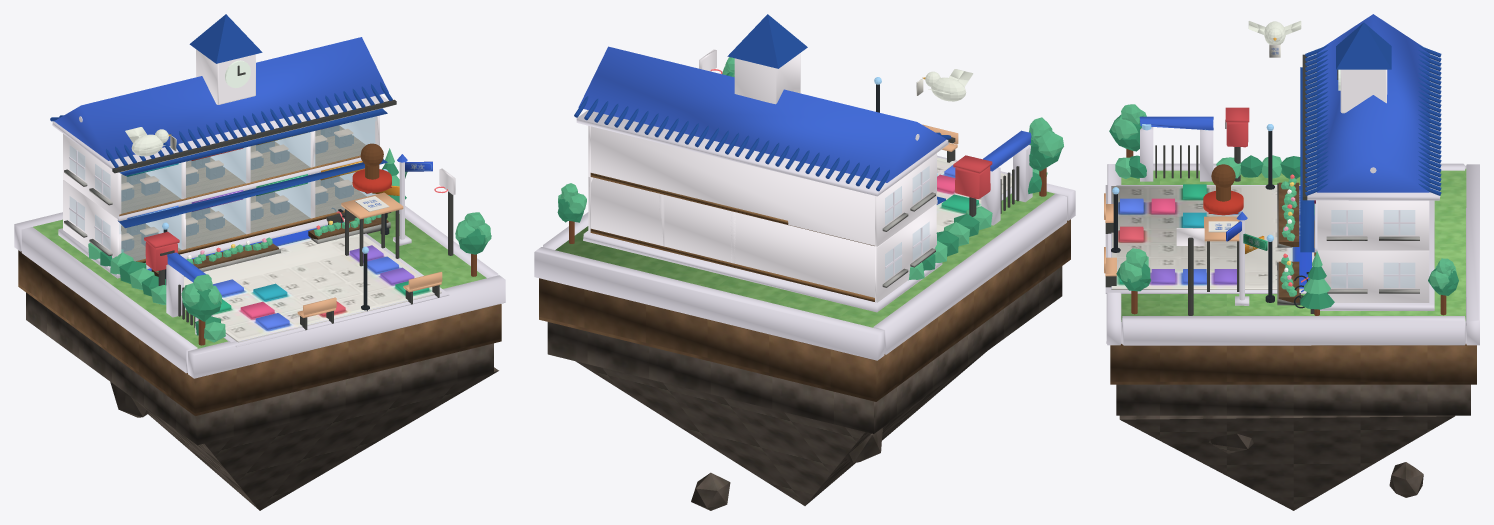
The model's file is hcrs.glb.
3 views of the same model, side by side, from view 1: azimuth 30°, elevation 25°; view 2: azimuth 150°, elevation 25°; view 3: azimuth 270°, elevation 25° (orthographic). The views are drawn at different scales.
Parts seen in each view (by area): view 1: school_rock, school_wall_trim, school_soil, school_glass.001, school_roof, school_wall, school_calendar, school_roof_dark, school_floor_wood, school_chair, school_lawn, school_leaf (+12 smaller); view 2: school_wall, school_rock, school_wall_trim, school_soil, school_roof, school_lawn, school_roof_dark, school_leaf, school_floor_wood, school_leaf_dark, school_glass.001, pigeon_pigeon (+4 smaller); view 3: school_rock, school_wall_trim, school_soil, school_roof, school_wall, school_calendar, school_lawn, school_roof_dark, school_leaf, school_leaf_dark, school_glass.001, school_chair (+11 smaller).
Boxes of the visible parts, x1,y1,x2,y2 form: school_rock: (26,292,498,510); school_wall_trim: (14,94,505,378); school_soil: (18,217,501,415); school_glass.001: (70,116,376,261); school_roof: (54,37,388,282); school_wall: (63,49,455,258); school_calendar: (147,222,441,342); school_roof_dark: (50,14,392,228); school_floor_wood: (119,126,366,262); school_chair: (112,65,453,330); school_lawn: (33,211,486,348); school_leaf: (88,148,491,342); school_wall: (588,49,936,302); school_rock: (547,266,1062,510); school_wall_trim: (534,110,1075,360); school_soil: (539,219,1070,401); school_roof: (578,46,1031,182); school_lawn: (555,191,1054,327); school_roof_dark: (574,14,951,204); school_leaf: (558,57,1063,280); school_floor_wood: (590,173,874,301); school_leaf_dark: (557,72,1061,270); school_glass.001: (885,166,929,280); pigeon_pigeon: (925,69,973,101); school_rock: (1116,384,1470,510); school_wall_trim: (1105,58,1479,345); school_soil: (1110,182,1476,384); school_roof: (1139,14,1429,292); school_wall: (1176,69,1429,302); school_calendar: (1111,186,1311,289); school_lawn: (1121,168,1466,321); school_roof_dark: (1300,22,1441,252); school_leaf: (1111,104,1456,296); school_leaf_dark: (1109,115,1458,309); school_glass.001: (1331,210,1414,287); school_chair: (1105,54,1338,315).
Size of the model in its own units: 3.99 by 5.76 by 4.02.
Materials: 28 (28 with a texture image).
